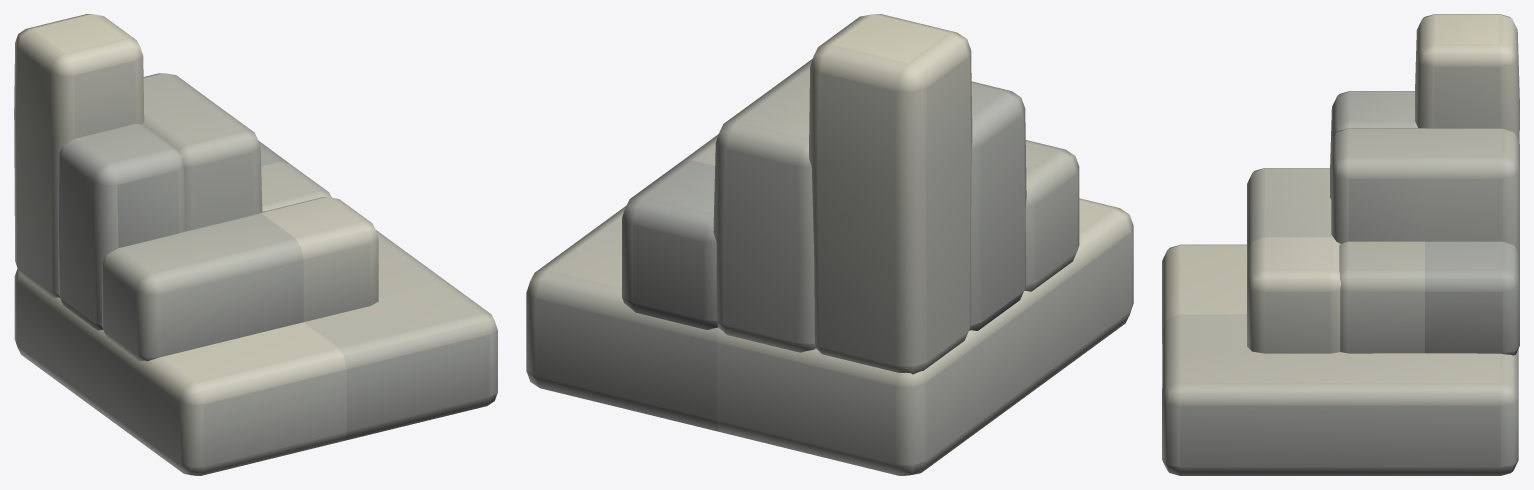
File: stair_stone1_corner_conv_LOD_setup.fbx
3 views of the same model, side by side, from view 1: azimuth 30°, elevation 25°; view 2: azimuth 150°, elevation 25°; view 3: azimuth 270°, elevation 25° (orthographic). The views are drawn at different scales.
Visible parts, largest first — view 1: stair_stone1_corner_conv_LOD0; view 2: stair_stone1_corner_conv_LOD0; view 3: stair_stone1_corner_conv_LOD0.
Boxes of the visible parts, x1,y1,x2,y2 form: stair_stone1_corner_conv_LOD0: [14, 14, 497, 475]; stair_stone1_corner_conv_LOD0: [526, 14, 1133, 475]; stair_stone1_corner_conv_LOD0: [1162, 14, 1519, 475].
Size of what is drawn, in the model's own units: 106 by 105 by 105.
